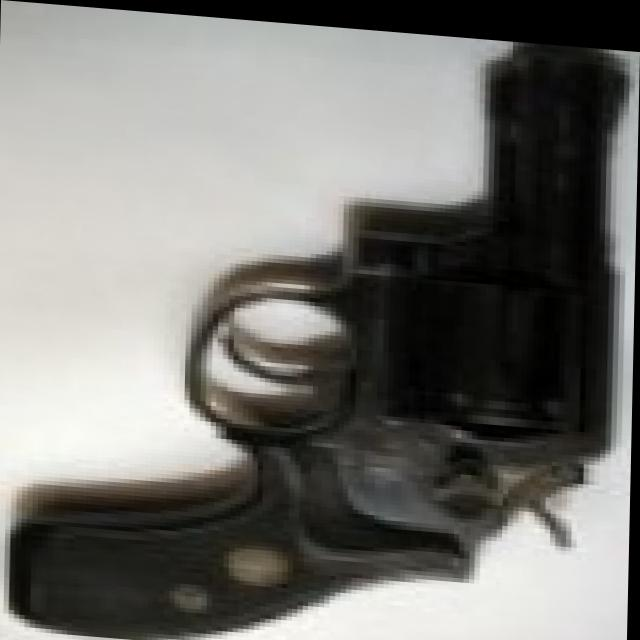handgun: (32, 7, 629, 640)
